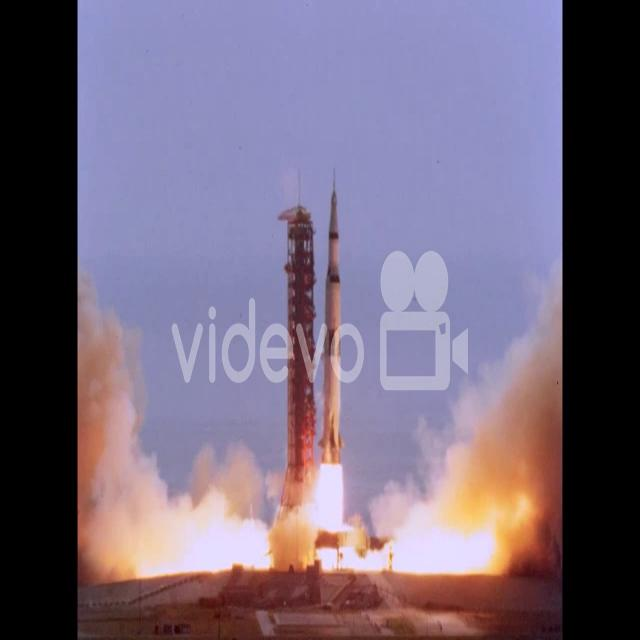rocket: (317, 180, 348, 522)
